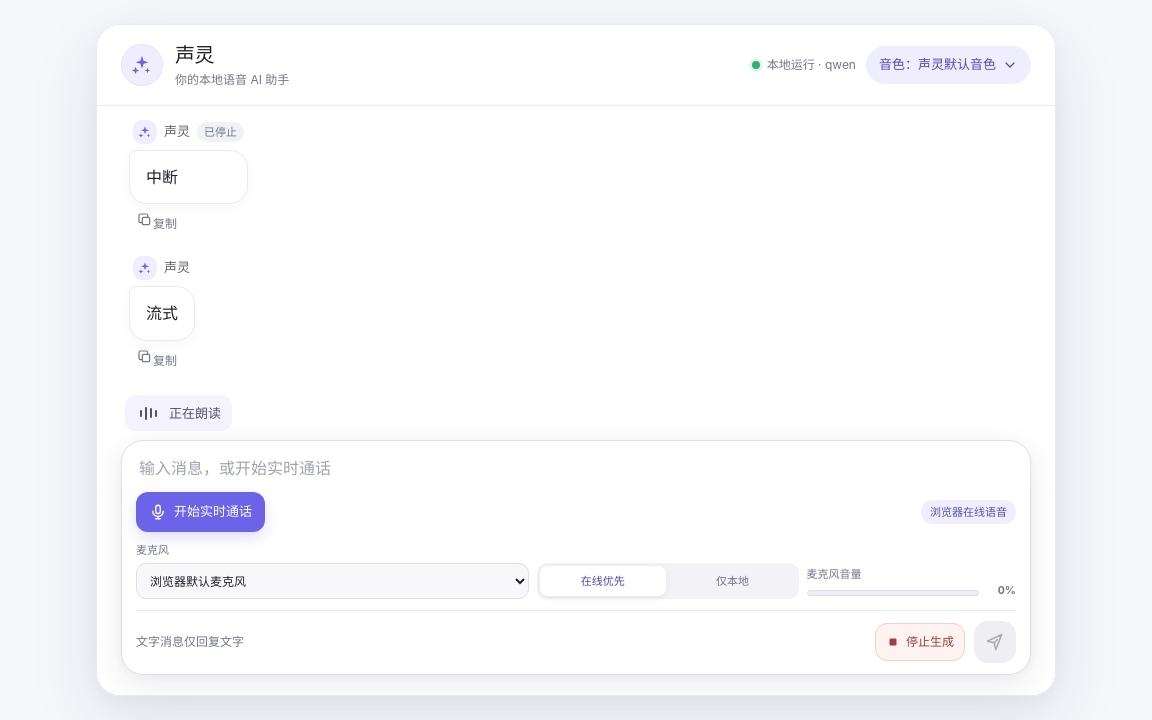
Test: App › disables voice previews while a conversation reply is playing
(page scrolled)
Click the button "音色：声灵默认音色" at coordinates (948, 65), box [866,46,1031,84]
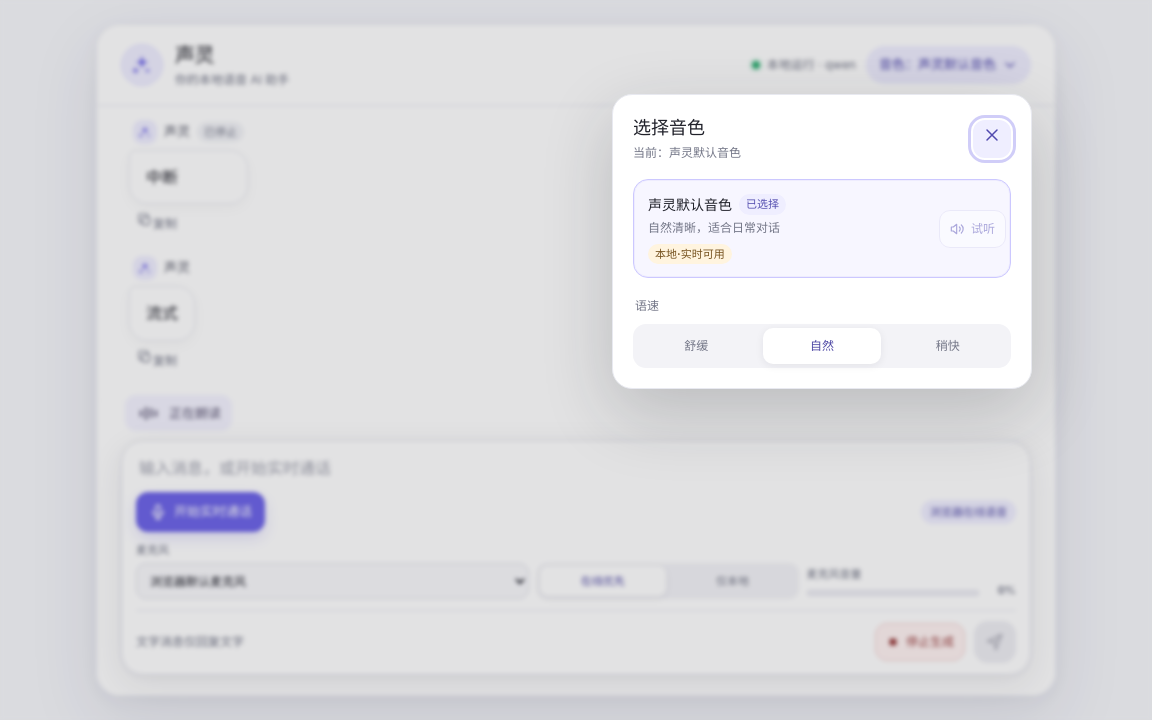
Check: the button with aria-label "试听 声灵默认音色" is disabled, box [939,210,1006,248]
